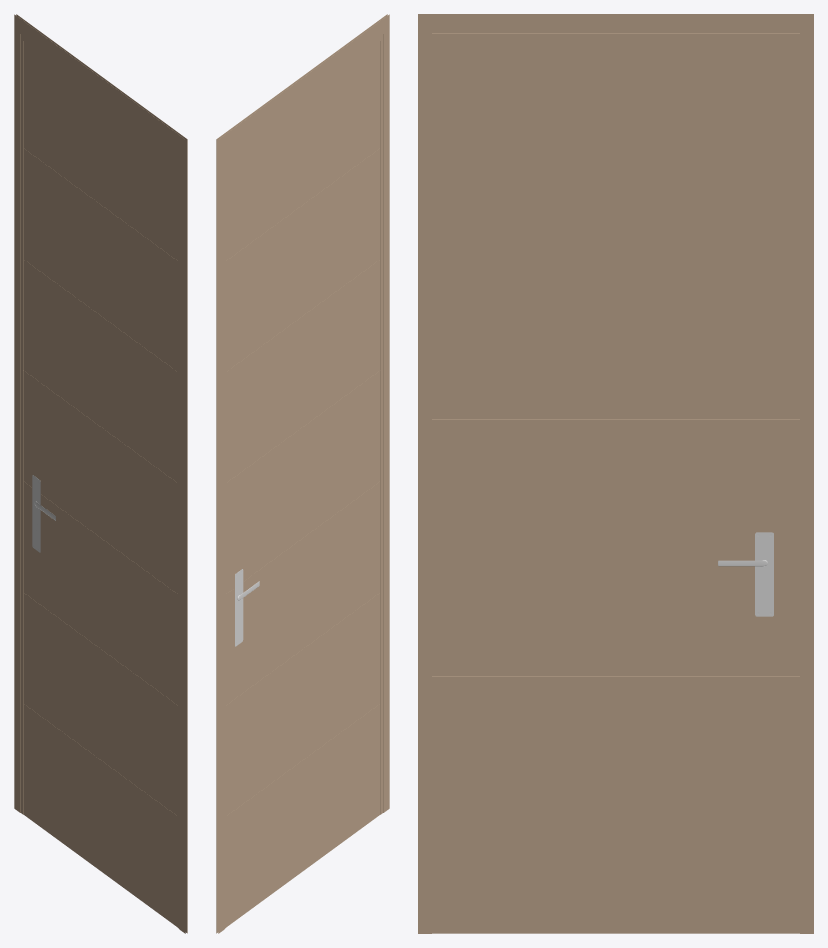
The model's file is Puerta RA.glb.
3 views of the same model, side by side, from view 1: azimuth 30°, elevation 25°; view 2: azimuth 150°, elevation 25°; view 3: azimuth 270°, elevation 25° (orthographic). The views are drawn at different scales.
Parts seen in each view (by area): view 1: Component_29_2, Group1, Component_32_1, Group3, plancha; view 2: Component_29_2, Group1, Component_32_1, Group3, plancha; view 3: Component_29_1, Group3, plancha1.
Boxes of the visible parts, left/top/right/bottom form: Component_29_2: left=23, top=41, right=177, bottom=926; Group1: left=14, top=14, right=185, bottom=933; Component_32_1: left=20, top=34, right=179, bottom=928; Group3: left=16, top=14, right=187, bottom=933; plancha: left=32, top=475, right=40, bottom=552; Component_29_2: left=226, top=41, right=380, bottom=926; Group1: left=218, top=14, right=389, bottom=933; Component_32_1: left=224, top=34, right=383, bottom=928; Group3: left=216, top=14, right=387, bottom=933; plancha: left=235, top=569, right=243, bottom=646; Component_29_1: left=432, top=33, right=799, bottom=933; Group3: left=418, top=15, right=813, bottom=933; plancha1: left=755, top=532, right=773, bottom=616.
Size of the model in its own units: 0.0016 by 0.6164 by 0.2407.
